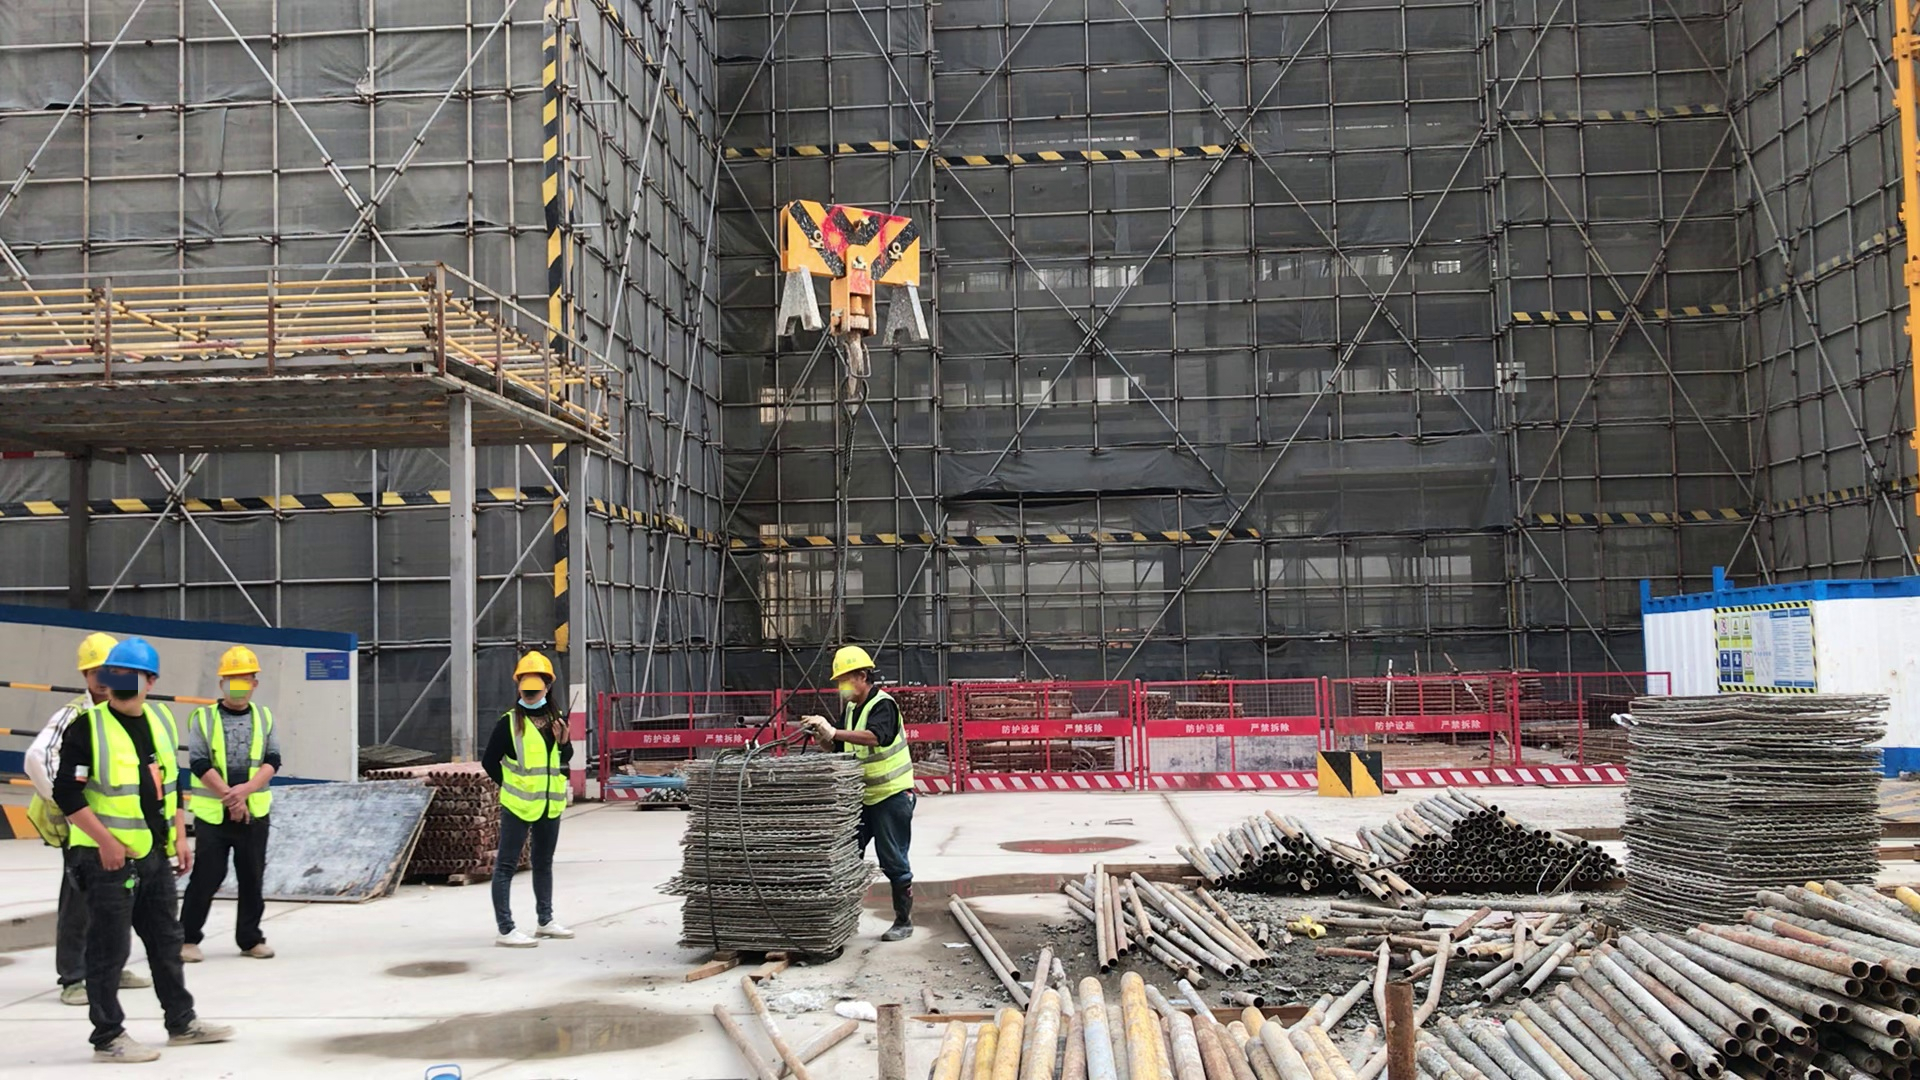fence: (600, 674, 1675, 801)
helmet: (104, 641, 159, 676), (824, 646, 878, 679), (74, 627, 115, 669), (219, 643, 256, 680), (512, 653, 561, 679)
hook: (774, 199, 932, 415)
person: (54, 640, 236, 1063), (26, 638, 153, 1006), (798, 648, 920, 941), (178, 647, 283, 964), (481, 651, 576, 950)
scaffold: (1621, 701, 1882, 922), (689, 761, 858, 949), (424, 765, 502, 888)
vest: (67, 703, 179, 860), (194, 701, 274, 827), (847, 691, 915, 806), (501, 708, 569, 823)
